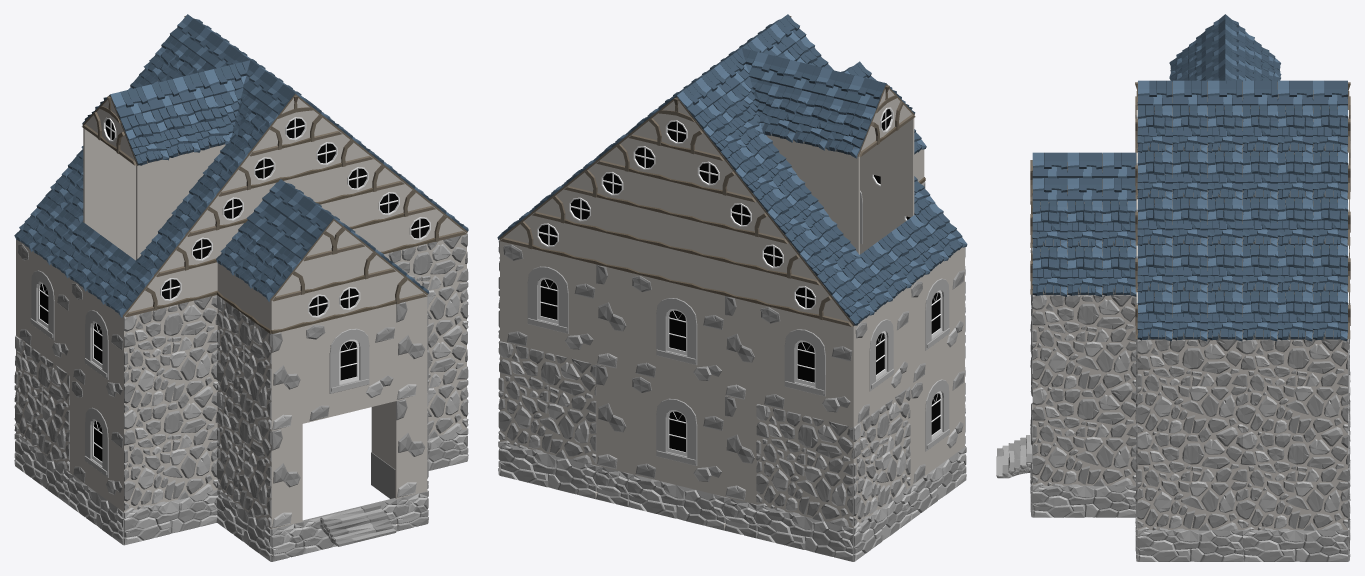
Rendered from HOUSE_4_PARTS.fbx.
3 renders of one model, left to right at view 1: azimuth 30°, elevation 25°; view 2: azimuth 150°, elevation 25°; view 3: azimuth 270°, elevation 25°, orthographic. The views are drawn at different scales.
Parts seen in each view (by area): view 1: WINDOW_07_10, WALL_02_30, WALL_02_29, WALL_02_31, WALL_02_27, WALL_02_28, WINDOW_07_11, WINDOW_07_12, WINDOW_07_13, WALL_02_25, WALL_02_26, WALL_03_3 (+95 smaller); view 2: WALL_02_17, WALL_02_18, WINDOW_07_16, WINDOW_07_15, WINDOW_07_17, WINDOW_07_14, WALL_02_31, WINDOW_07_13, WINDOW_07_12, WINDOW_07_11, FOUNDATION_01_10, WALL_03_8 (+80 smaller); view 3: WALL_02_21, WALL_02_20, WALL_02_22, WALL_02_19, WALL_02_23, WALL_02_24, FOUNDATION_01_7, FOUNDATION_01_5, FOUNDATION_01_8, ROOF_base_37, ROOF_base_30, ROOF_base_29 (+50 smaller).
Boxes of the visible parts, x1=… form: WINDOW_07_10: x1=302, y1=304, x2=396, y2=423; WALL_02_30: x1=124, y1=392, x2=217, y2=512; WALL_02_29: x1=124, y1=295, x2=218, y2=414; WALL_02_31: x1=14, y1=336, x2=69, y2=472; WALL_02_27: x1=216, y1=392, x2=271, y2=528; WALL_02_28: x1=216, y1=295, x2=271, y2=431; WINDOW_07_11: x1=70, y1=375, x2=124, y2=512; WINDOW_07_12: x1=70, y1=279, x2=123, y2=414; WINDOW_07_13: x1=16, y1=239, x2=69, y2=374; WALL_02_25: x1=384, y1=233, x2=467, y2=340; WALL_02_26: x1=427, y1=331, x2=467, y2=438; WALL_03_3: x1=395, y1=393, x2=427, y2=498; WALL_02_17: x1=499, y1=341, x2=596, y2=465; WALL_02_18: x1=756, y1=404, x2=853, y2=527; WINDOW_07_16: x1=628, y1=372, x2=724, y2=496; WINDOW_07_15: x1=628, y1=272, x2=724, y2=395; WINDOW_07_17: x1=500, y1=241, x2=596, y2=364; WINDOW_07_14: x1=757, y1=303, x2=854, y2=426; WALL_02_31: x1=851, y1=386, x2=910, y2=528; WINDOW_07_13: x1=851, y1=288, x2=909, y2=427; WINDOW_07_12: x1=909, y1=247, x2=964, y2=386; WINDOW_07_11: x1=909, y1=346, x2=964, y2=486; FOUNDATION_01_10: x1=627, y1=473, x2=725, y2=530; WALL_03_8: x1=596, y1=364, x2=628, y2=473; WALL_02_21: x1=1137, y1=339, x2=1242, y2=435; WALL_02_20: x1=1137, y1=435, x2=1242, y2=530; WALL_02_22: x1=1243, y1=339, x2=1347, y2=435; WALL_02_19: x1=1243, y1=435, x2=1347, y2=530; WALL_02_23: x1=1032, y1=390, x2=1135, y2=486; WALL_02_24: x1=1032, y1=295, x2=1136, y2=390; FOUNDATION_01_7: x1=1137, y1=530, x2=1242, y2=561; FOUNDATION_01_5: x1=1032, y1=485, x2=1135, y2=517; FOUNDATION_01_8: x1=1243, y1=530, x2=1347, y2=561; ROOF_base_37: x1=1137, y1=290, x2=1172, y2=341; ROOF_base_30: x1=1067, y1=246, x2=1102, y2=296; ROOF_base_29: x1=1032, y1=246, x2=1067, y2=296.
Size of the model in its own units: 1120 by 1259 by 1012.
